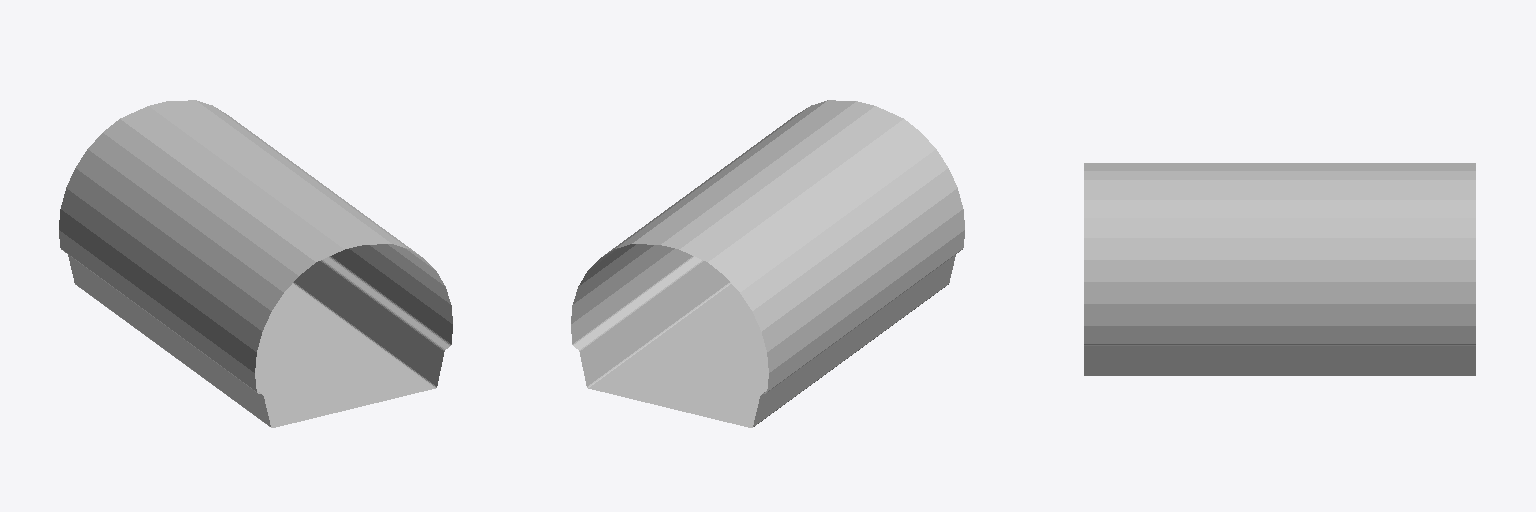
Rendered from tunnel_straight.obj.
3 views of the same model, side by side, from view 1: azimuth 30°, elevation 25°; view 2: azimuth 150°, elevation 25°; view 3: azimuth 270°, elevation 25° (orthographic).
Visible parts, largest first — view 1: tunnel_straight; view 2: tunnel_straight; view 3: tunnel_straight.
Boxes of the visible parts, <box> form: tunnel_straight: <box>59,100,452,427</box>; tunnel_straight: <box>571,100,964,427</box>; tunnel_straight: <box>1084,163,1475,375</box>.
Size of the model in its own units: 3.5 by 2.72 by 6.